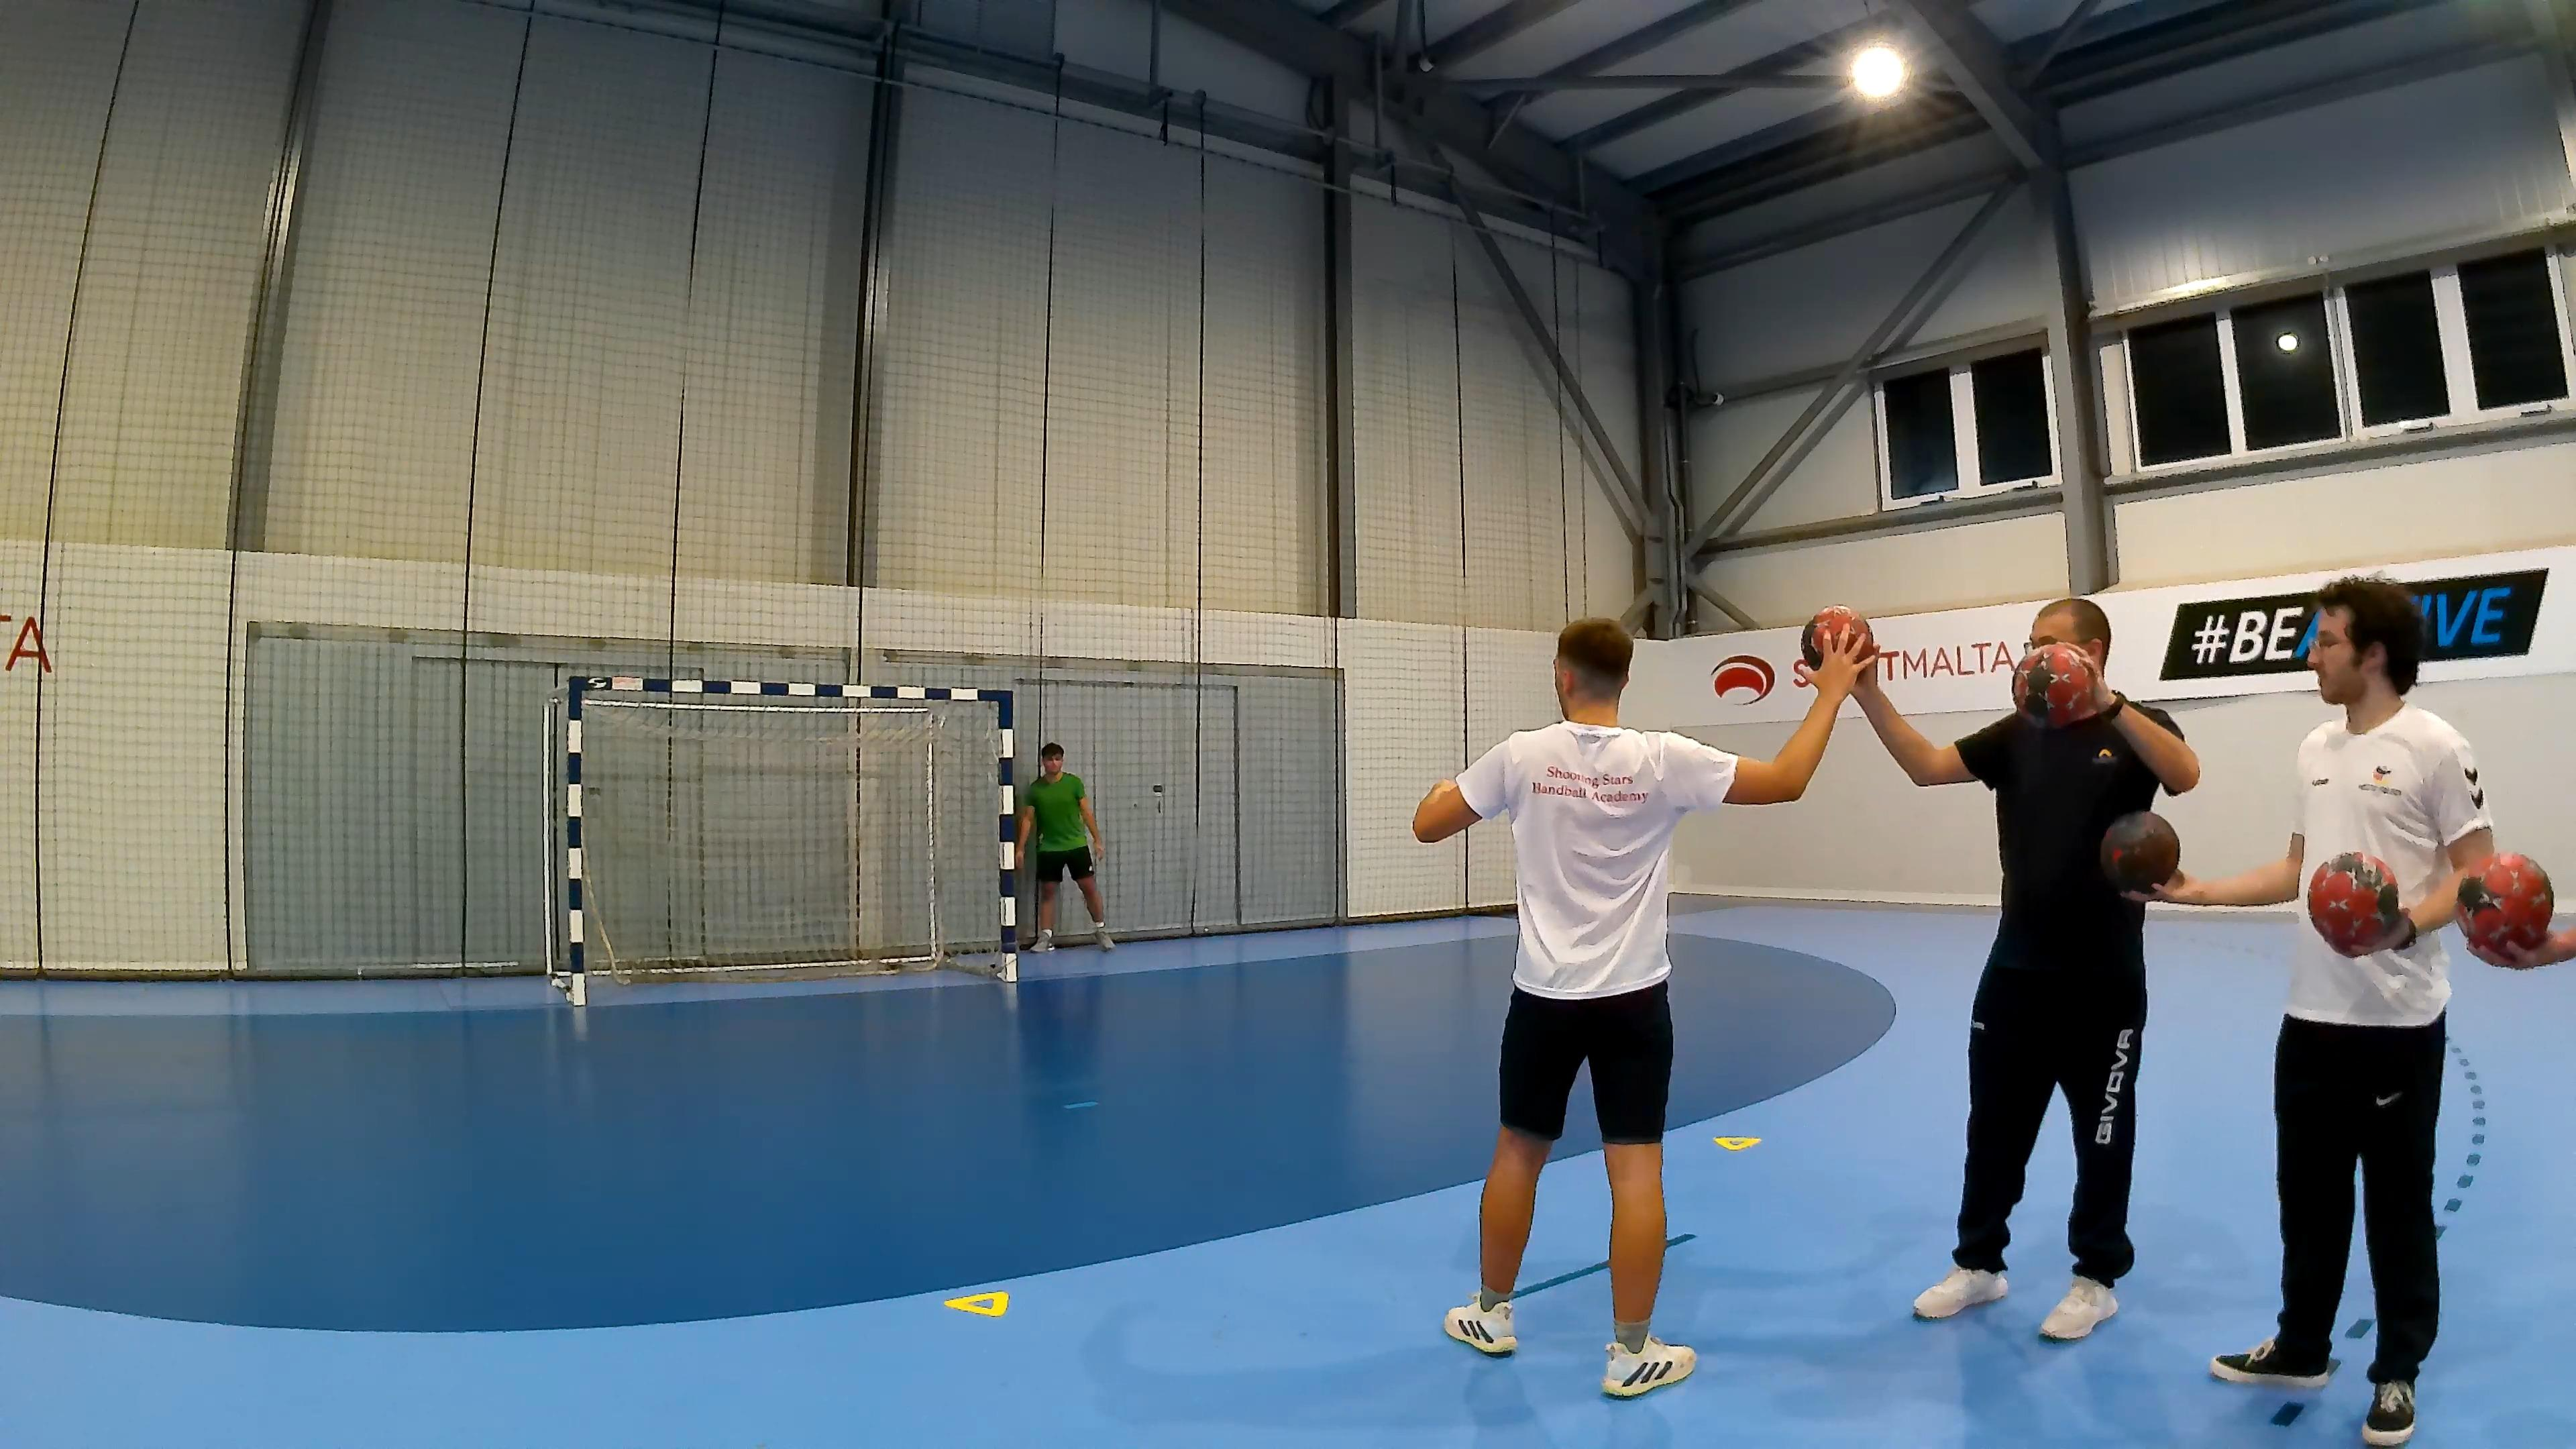handball: (2456, 849, 2553, 962), (2307, 849, 2401, 955), (2010, 640, 2095, 729), (2098, 810, 2180, 893), (1799, 605, 1874, 672)
